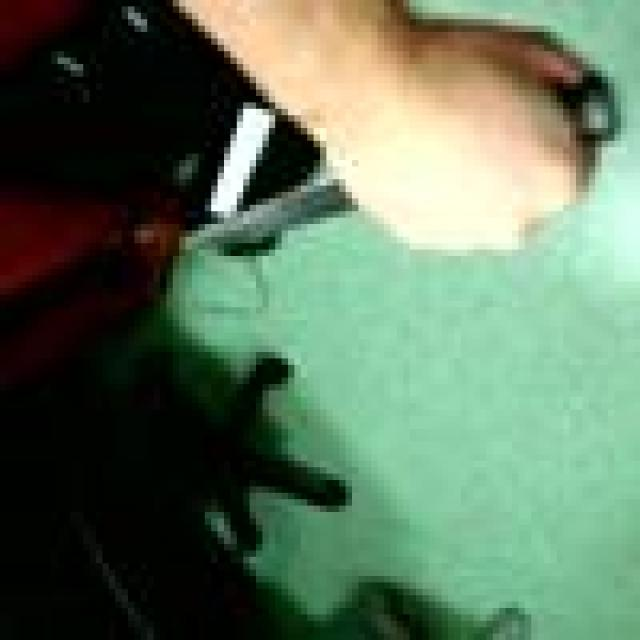knife: (199, 181, 356, 252)
